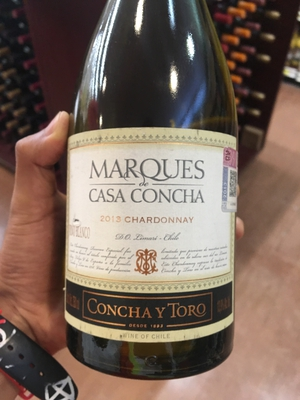marques de casa concha chardonnay: (38, 22, 257, 370)
